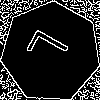L: (25, 27, 79, 73)
